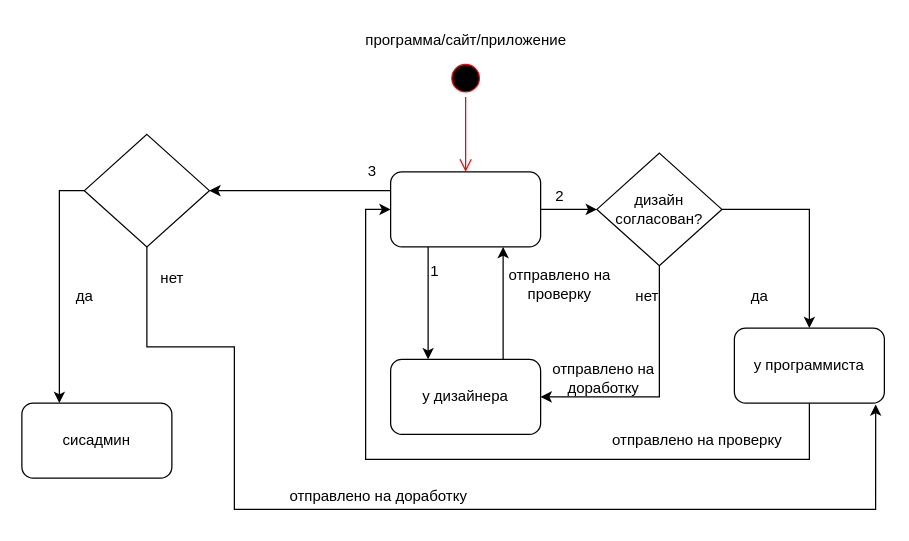
Image size: 909x541. Some labels were removed from this diagram. Each missing label, with the box of its shape:
код согласован?: (83, 133, 209, 247)
у тимлида: (389, 171, 541, 247)
